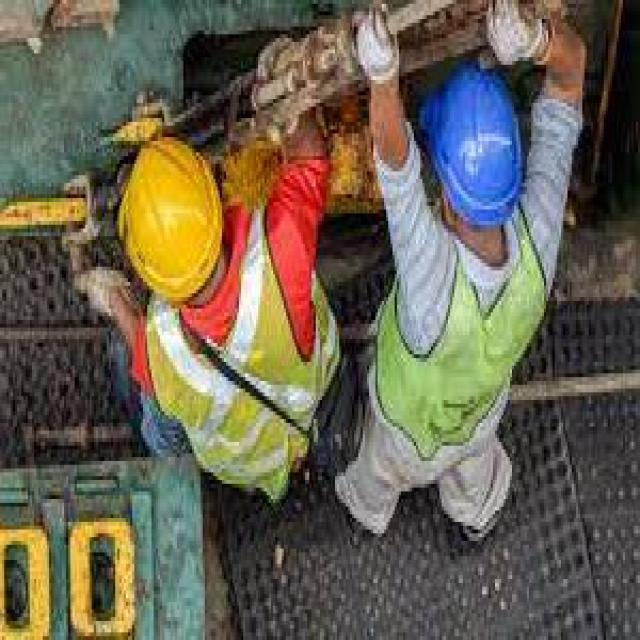Reflective-Jacket: (141, 217, 343, 522), (365, 221, 565, 491)
Safety-Helmet: (113, 126, 226, 312), (412, 61, 527, 236)
